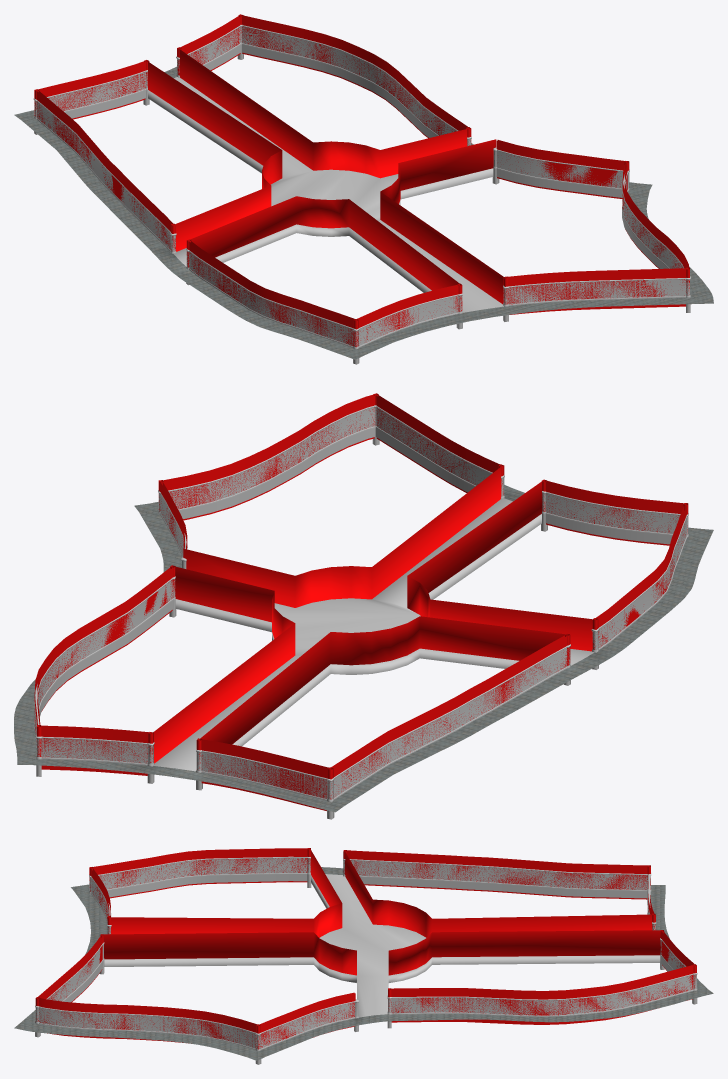
The model's file is stadtpark.fbx.
The picture shows the model from 3 angles, top to bottom: view 1: azimuth 30°, elevation 25°; view 2: azimuth 150°, elevation 25°; view 3: azimuth 270°, elevation 25°; orthographic projection. The views are drawn at different scales.
Visible parts, largest first — view 1: colmesh, stadtpark; view 2: colmesh, stadtpark; view 3: colmesh, stadtpark.
Boxes of the visible parts, x1=… form: colmesh: x1=34, y1=14, x2=689, y2=346; stadtpark: x1=14, y1=25, x2=713, y2=364; colmesh: x1=34, y1=393, x2=688, y2=810; stadtpark: x1=14, y1=405, x2=713, y2=819; colmesh: x1=35, y1=848, x2=696, y2=1049; stadtpark: x1=14, y1=856, x2=713, y2=1064.
Size of the model in its own units: 6333 by 584 by 9632.
